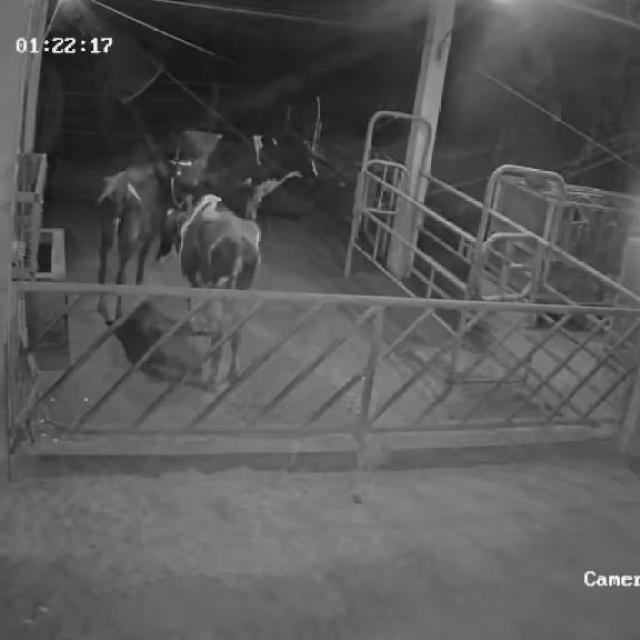standing: (162, 191, 265, 387), (100, 157, 192, 324), (173, 125, 323, 223)
